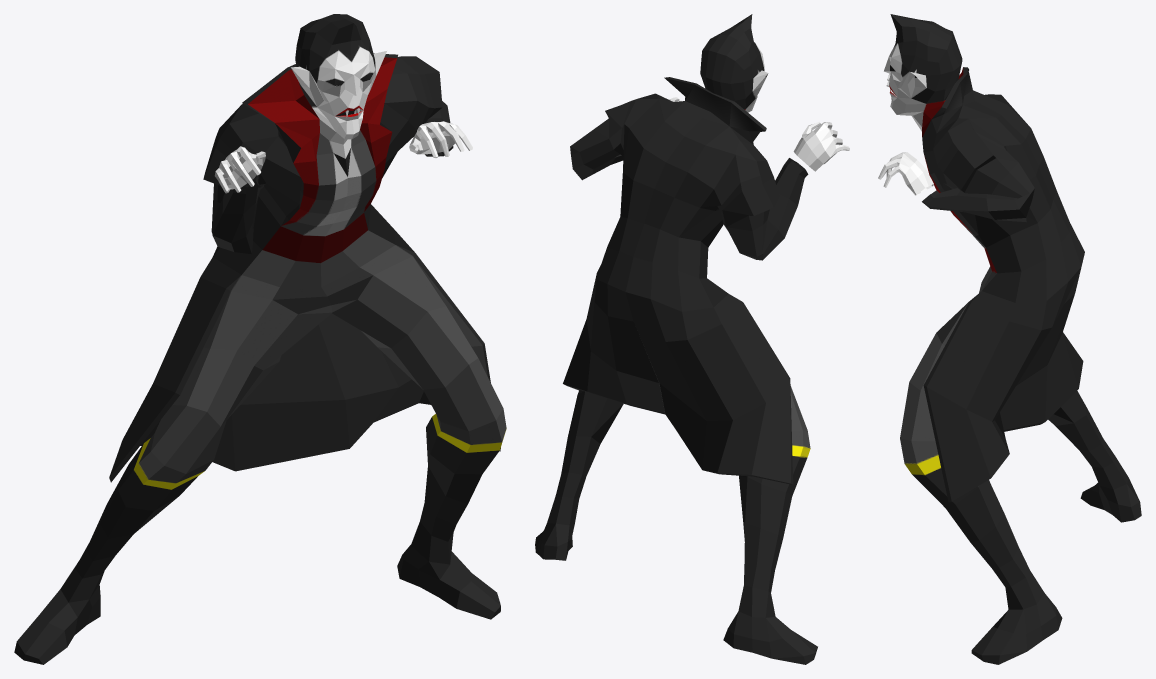
File: VampireAttack(79).obj
3 renders of one model, left to right at view 1: azimuth 30°, elevation 25°; view 2: azimuth 150°, elevation 25°; view 3: azimuth 270°, elevation 25°, orthographic. The views are drawn at different scales.
Parts seen in each view (by area): view 1: Plane002; view 2: Plane002; view 3: Plane002.
Boxes of the visible parts, x1,y1,x2,y2 form: Plane002: [14, 14, 506, 664]; Plane002: [535, 14, 849, 664]; Plane002: [878, 14, 1141, 664].
Size of the model in its own units: 189 by 295 by 124.
